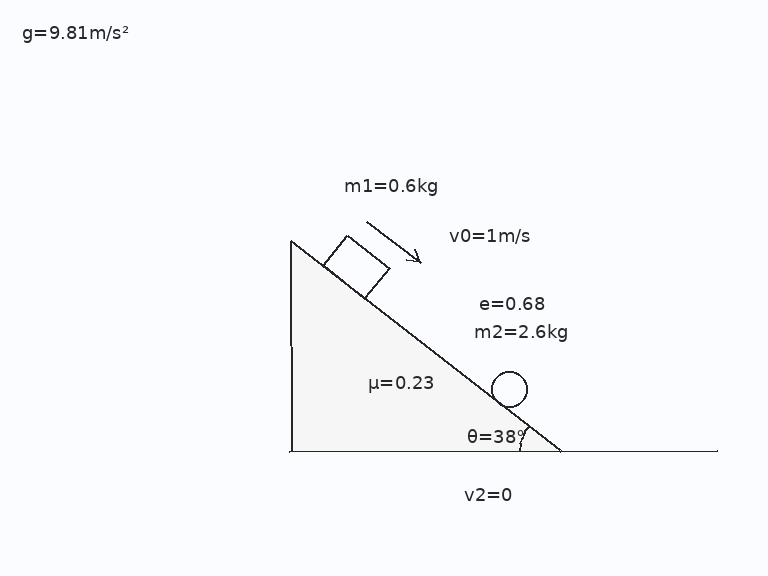ball: (489, 369, 529, 409)
block: (320, 233, 391, 300)
ramp: (289, 239, 562, 453)
